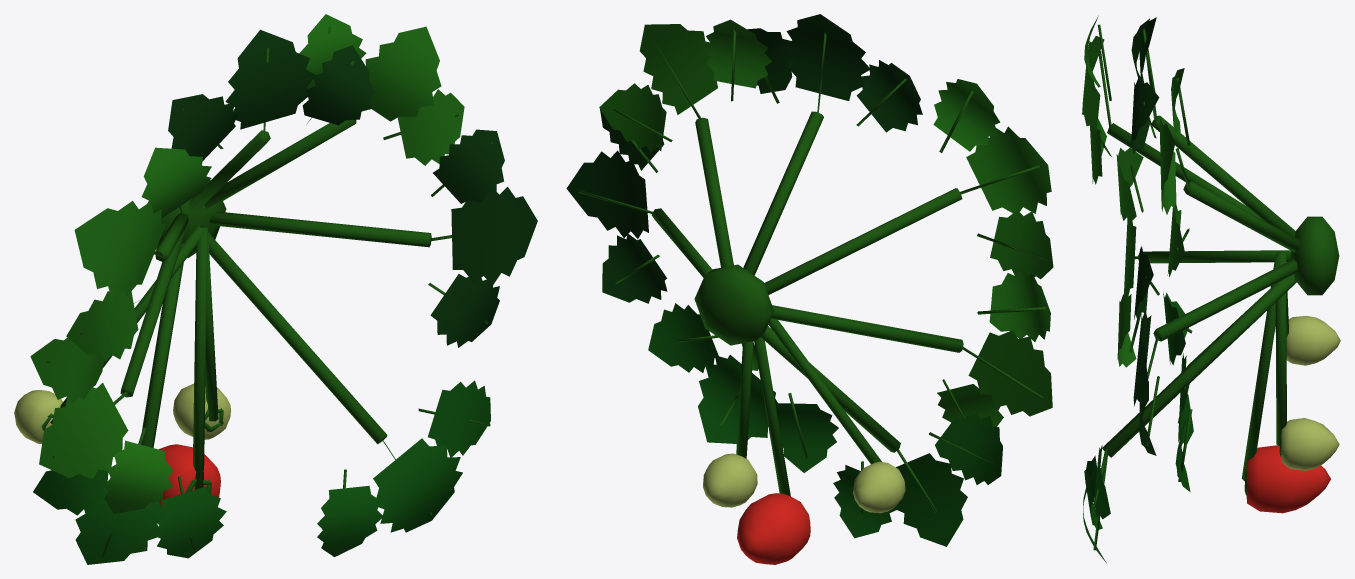
File: plant_variant_23.obj
3 views of the same model, side by side, from view 1: azimuth 30°, elevation 25°; view 2: azimuth 150°, elevation 25°; view 3: azimuth 270°, elevation 25° (orthographic). The views are drawn at different scales.
Parts seen in each view (by area): view 1: field_export_plant_variant_23; view 2: field_export_plant_variant_23; view 3: field_export_plant_variant_23.
Boxes of the visible parts, <box> form: field_export_plant_variant_23: <box>14,14,537,564</box>; field_export_plant_variant_23: <box>566,14,1053,564</box>; field_export_plant_variant_23: <box>1082,15,1340,563</box>.
Bounding box in the file's own units: 0.5714 × 0.5658 × 0.2652.
